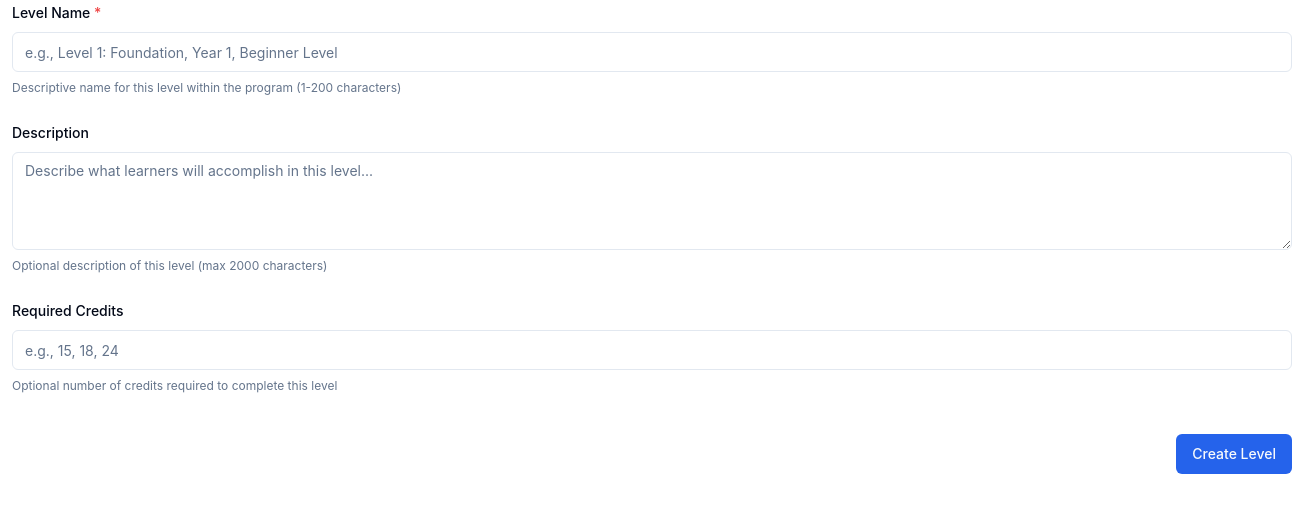
Test: ProgramLevelForm › Form Validation › should clear validation errors when field is corrected
Click the button "Create Level" at x=1234, y=454, box [1176,434,1292,474]
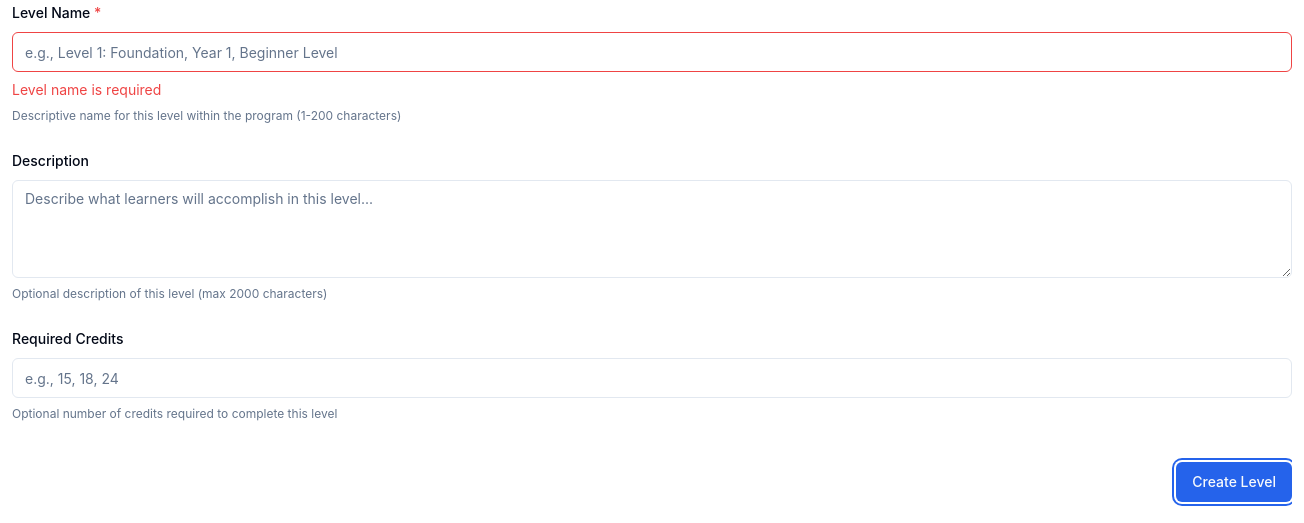
Now the text "Level name is required" is shown, box [12,81,161,98]
Type "Valid Name" into the field labelled "Level Name *" at x=652, y=52, box [12,32,1292,72]
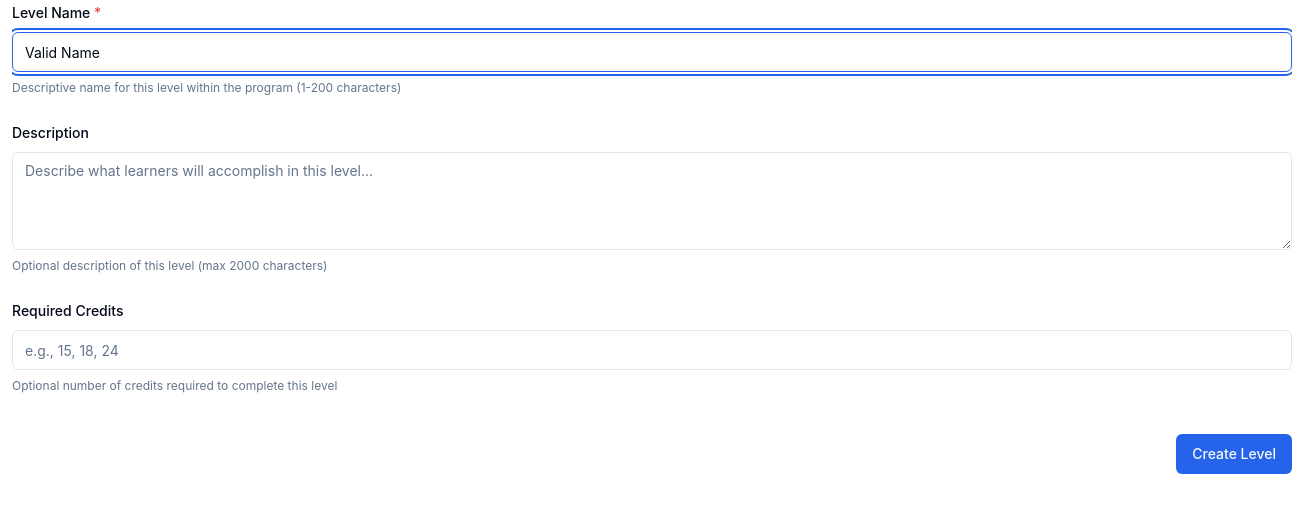
Now the text "Level name is required" is gone
